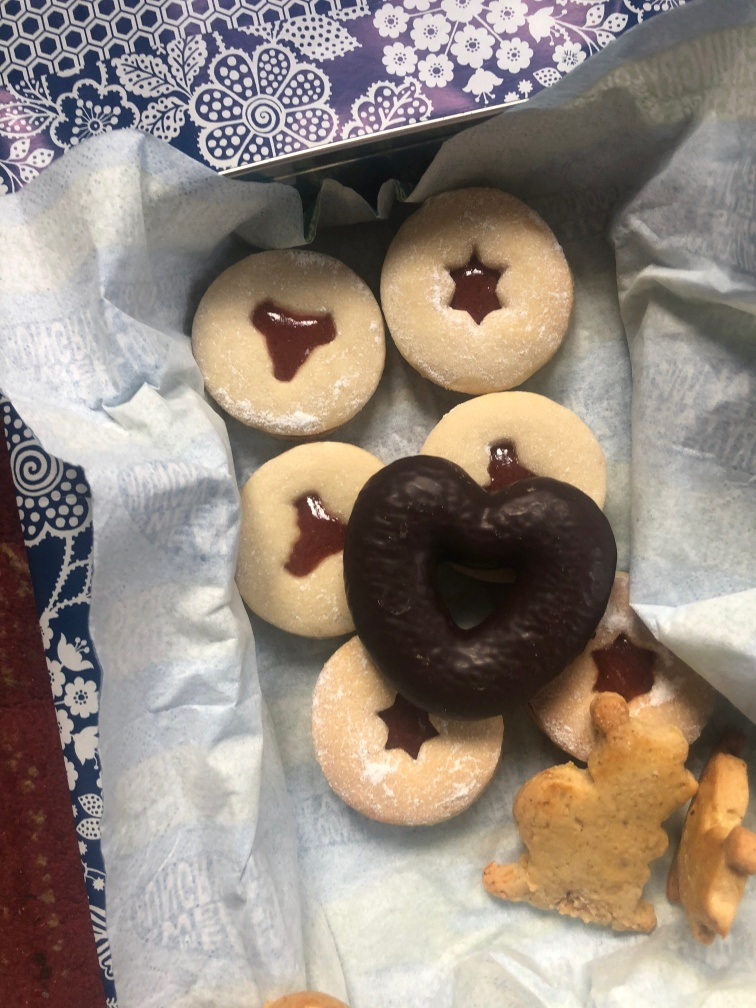christmas shortbread with jam: (381, 184, 574, 394), (189, 245, 387, 435), (307, 643, 507, 828), (547, 574, 714, 765), (229, 439, 377, 642), (419, 390, 610, 508)
heart: (346, 454, 616, 724)
